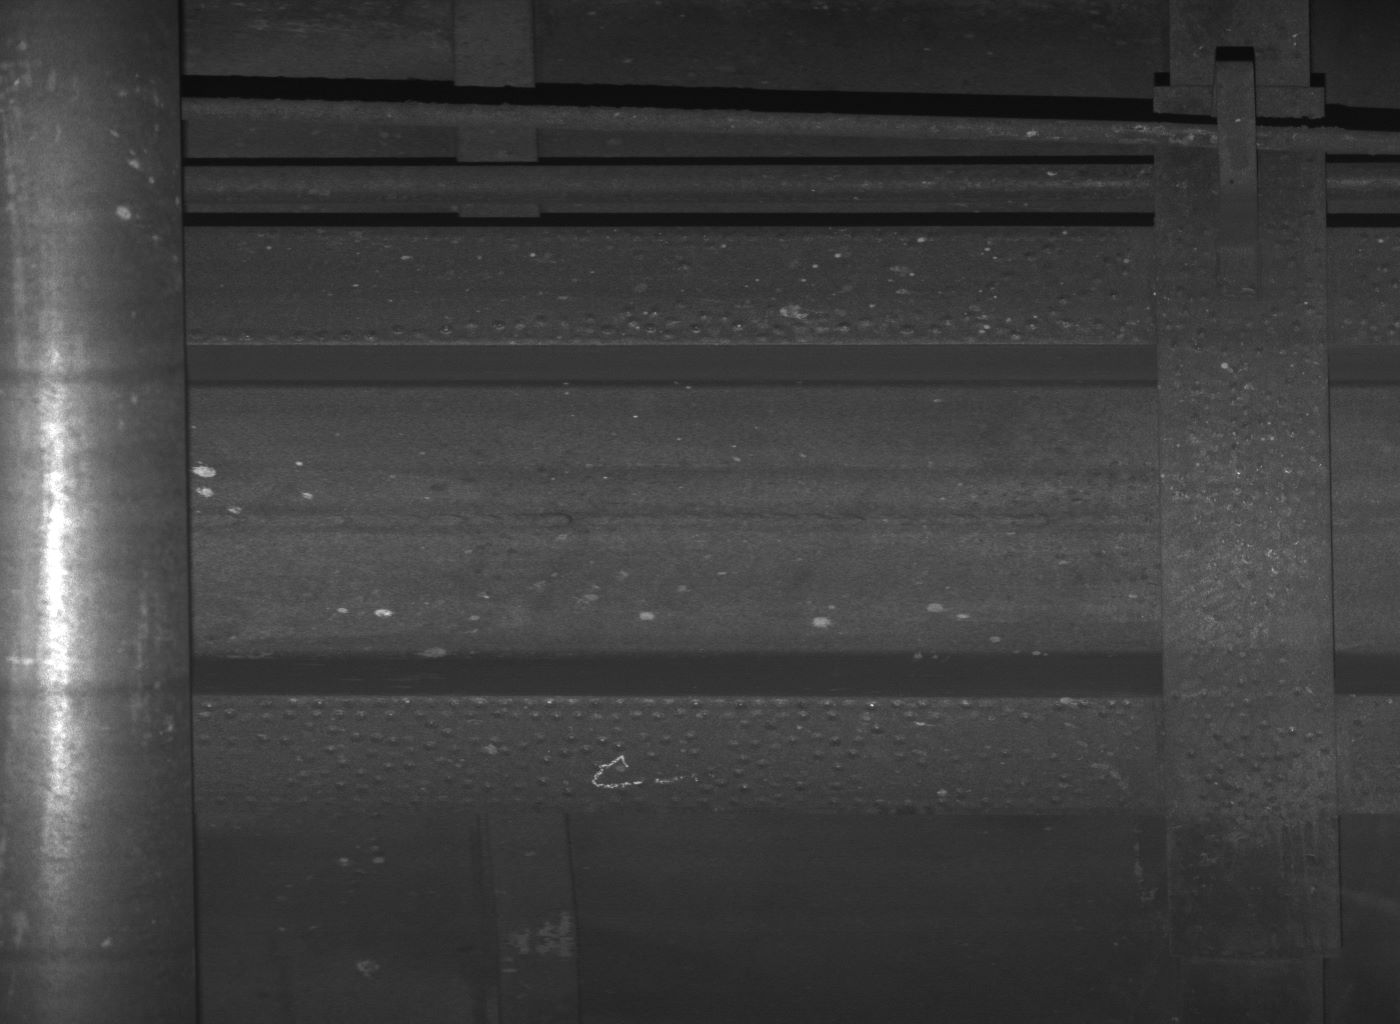normal: (1214, 60, 1261, 288)
